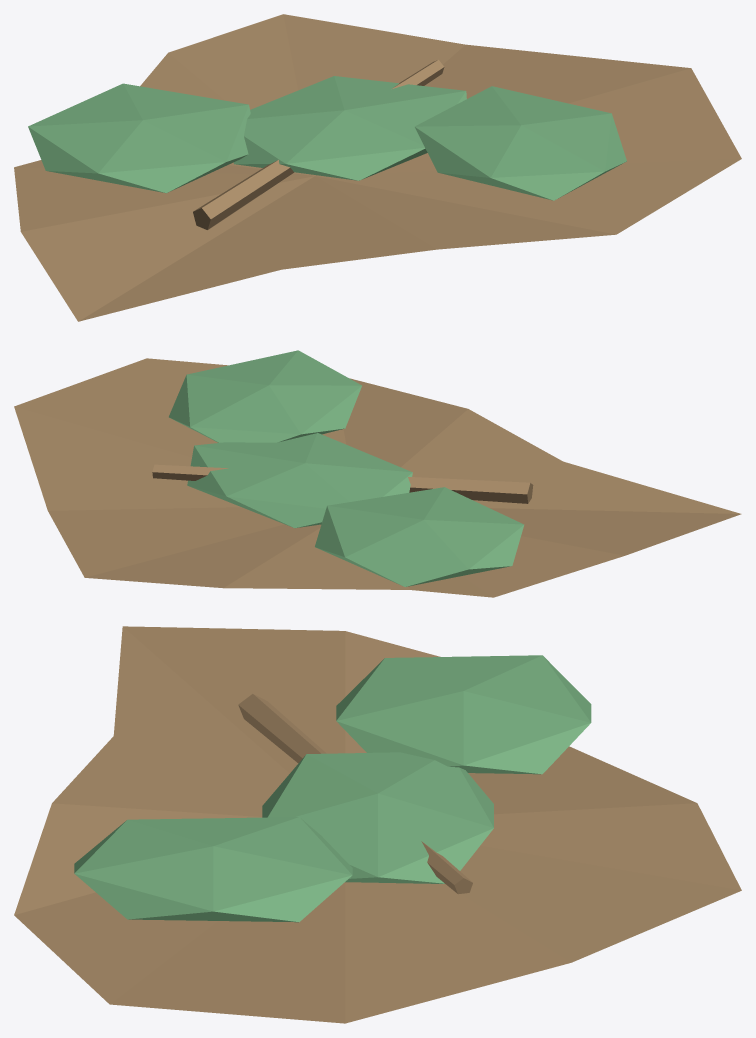
The model's file is myb_forest_leaf_moss_mat_b.fbx.
The picture shows the model from 3 angles, top to bottom: view 1: azimuth 30°, elevation 25°; view 2: azimuth 150°, elevation 25°; view 3: azimuth 270°, elevation 25°; orthographic projection. The views are drawn at different scales.
Parts seen in each view (by area): view 1: myb_forest_leaf_moss_mat_b; view 2: myb_forest_leaf_moss_mat_b; view 3: myb_forest_leaf_moss_mat_b.
Part boxes in pixels (x1,y1,x2,y2): myb_forest_leaf_moss_mat_b: [14, 14, 741, 321]; myb_forest_leaf_moss_mat_b: [14, 350, 741, 597]; myb_forest_leaf_moss_mat_b: [14, 626, 741, 1023].
Bounding box in the file's own units: 1.66 × 0.122 × 1.24.
